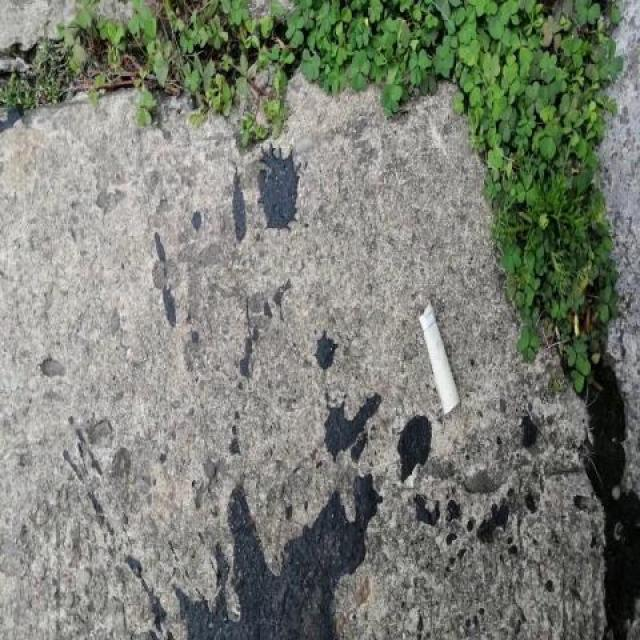non-organic waste: (413, 293, 467, 423)
